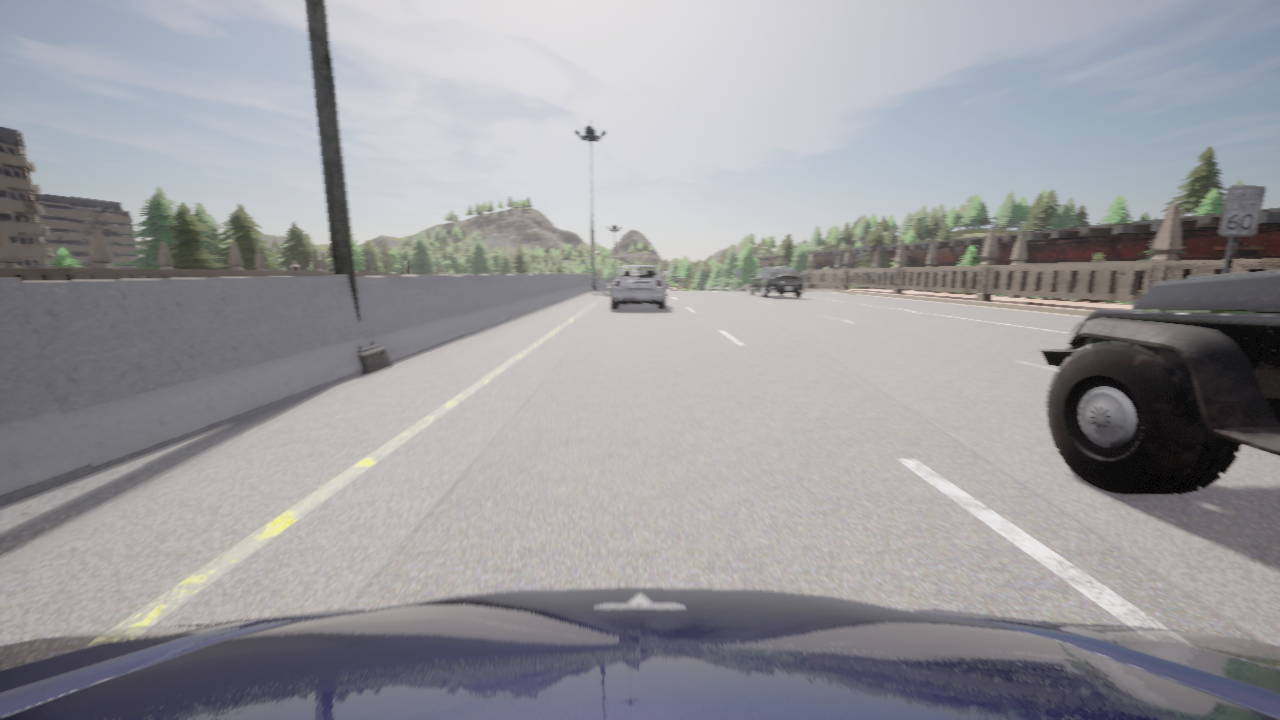cyclist: (0, 588, 1279, 719), (1040, 271, 1279, 495), (610, 265, 666, 309), (749, 267, 803, 297)
